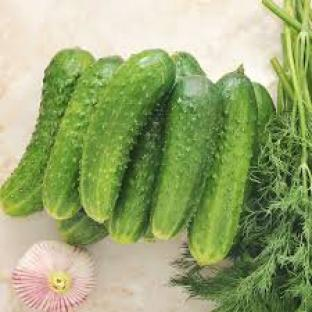Cucumber: (81, 50, 174, 221), (0, 49, 94, 216), (43, 57, 123, 220), (189, 71, 256, 264), (152, 75, 221, 239), (110, 109, 163, 244), (57, 211, 108, 245), (253, 82, 275, 145), (172, 52, 205, 79)
